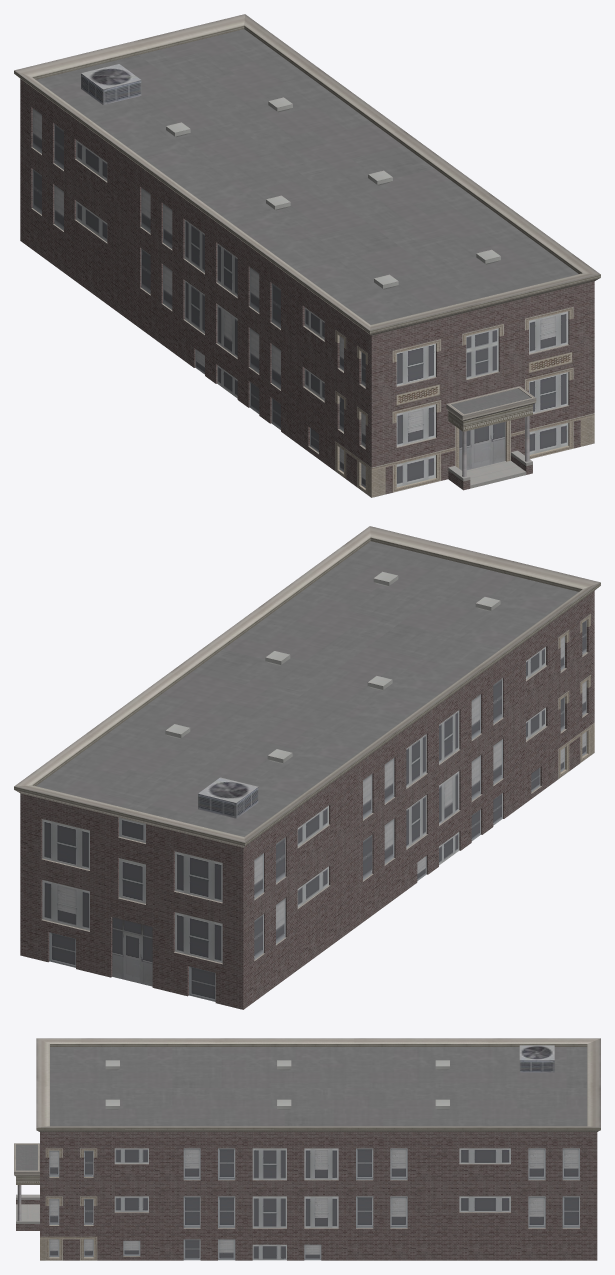
Rendered from building-g.glb.
The picture shows the model from 3 angles, top to bottom: view 1: azimuth 30°, elevation 25°; view 2: azimuth 150°, elevation 25°; view 3: azimuth 270°, elevation 25°; orthographic projection. The views are drawn at different scales.
Visible parts, largest first — view 1: mplsapt1objcleanermaterialmergergles; view 2: mplsapt1objcleanermaterialmergergles; view 3: mplsapt1objcleanermaterialmergergles.
Boxes of the visible parts, box(x1,y1,x2,y2) form: mplsapt1objcleanermaterialmergergles: box(14, 14, 600, 497); mplsapt1objcleanermaterialmergergles: box(14, 526, 600, 1009); mplsapt1objcleanermaterialmergergles: box(14, 1038, 600, 1260).
Bounding box in the file's own units: 0.7215 × 0.534 × 2.
Materials: 1 (1 with a texture image).
